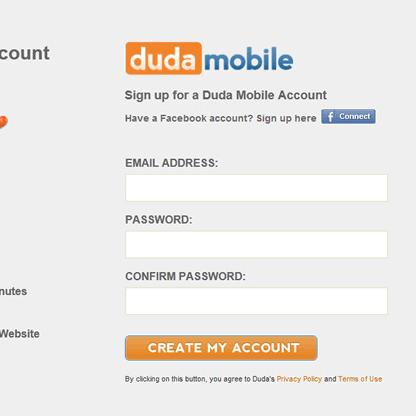button: (124, 334, 318, 362), (321, 107, 376, 124)
field: (124, 171, 388, 203), (123, 228, 388, 259), (124, 284, 388, 315)
field_with_label: (122, 156, 391, 206), (122, 270, 391, 318), (121, 215, 390, 261)
